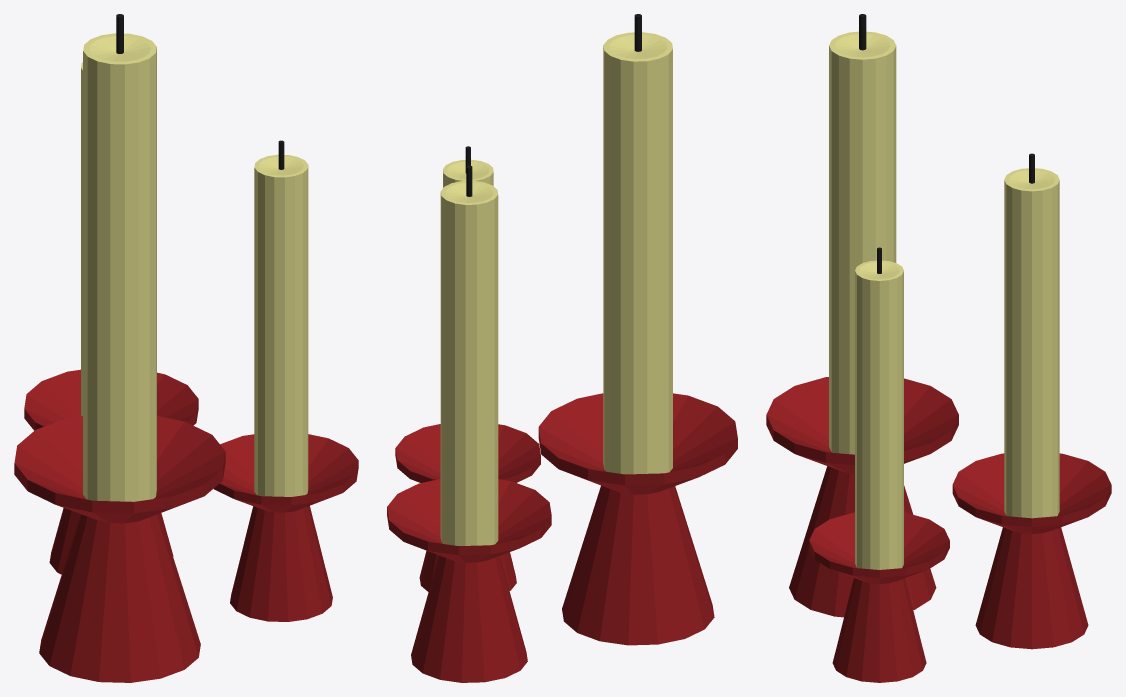
Rendered from candles maskwatch.fbx.
The picture shows the model from 3 angles, left to right: view 1: azimuth 30°, elevation 25°; view 2: azimuth 150°, elevation 25°; view 3: azimuth 270°, elevation 25°; orthographic projection. The views are drawn at different scales.
Parts seen in each view (by area): view 1: candles; view 2: candles; view 3: candles.
Boxes of the visible parts, x1,y1,x2,y2 form: candles: (14, 14, 358, 682); candles: (387, 14, 737, 682); candles: (766, 14, 1111, 682).
Size of the model in its own units: 0.1638 by 0.3 by 0.164.
